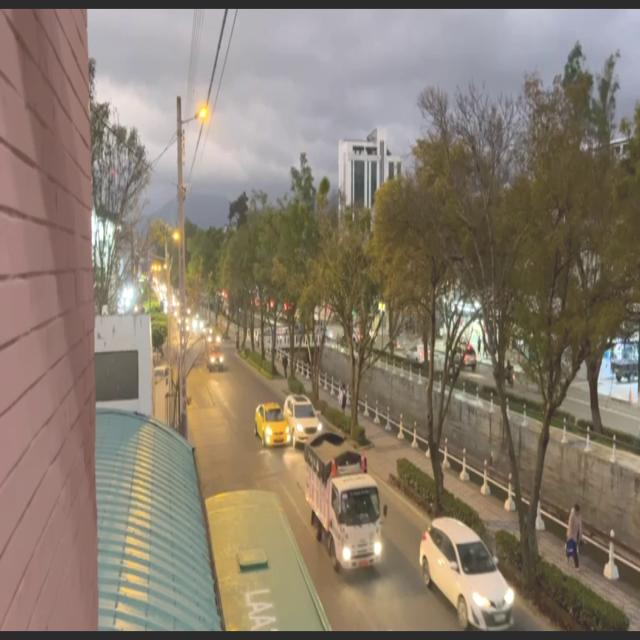SED: (258, 406, 290, 445)
SUV: (428, 528, 514, 632)
TRUCK: (329, 468, 382, 571)
